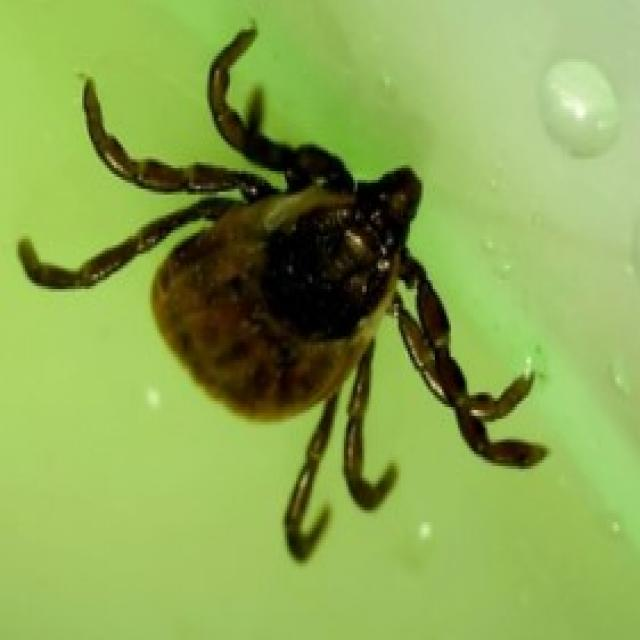Rhipicephalus Sanguineus-F: (16, 27, 551, 563)
